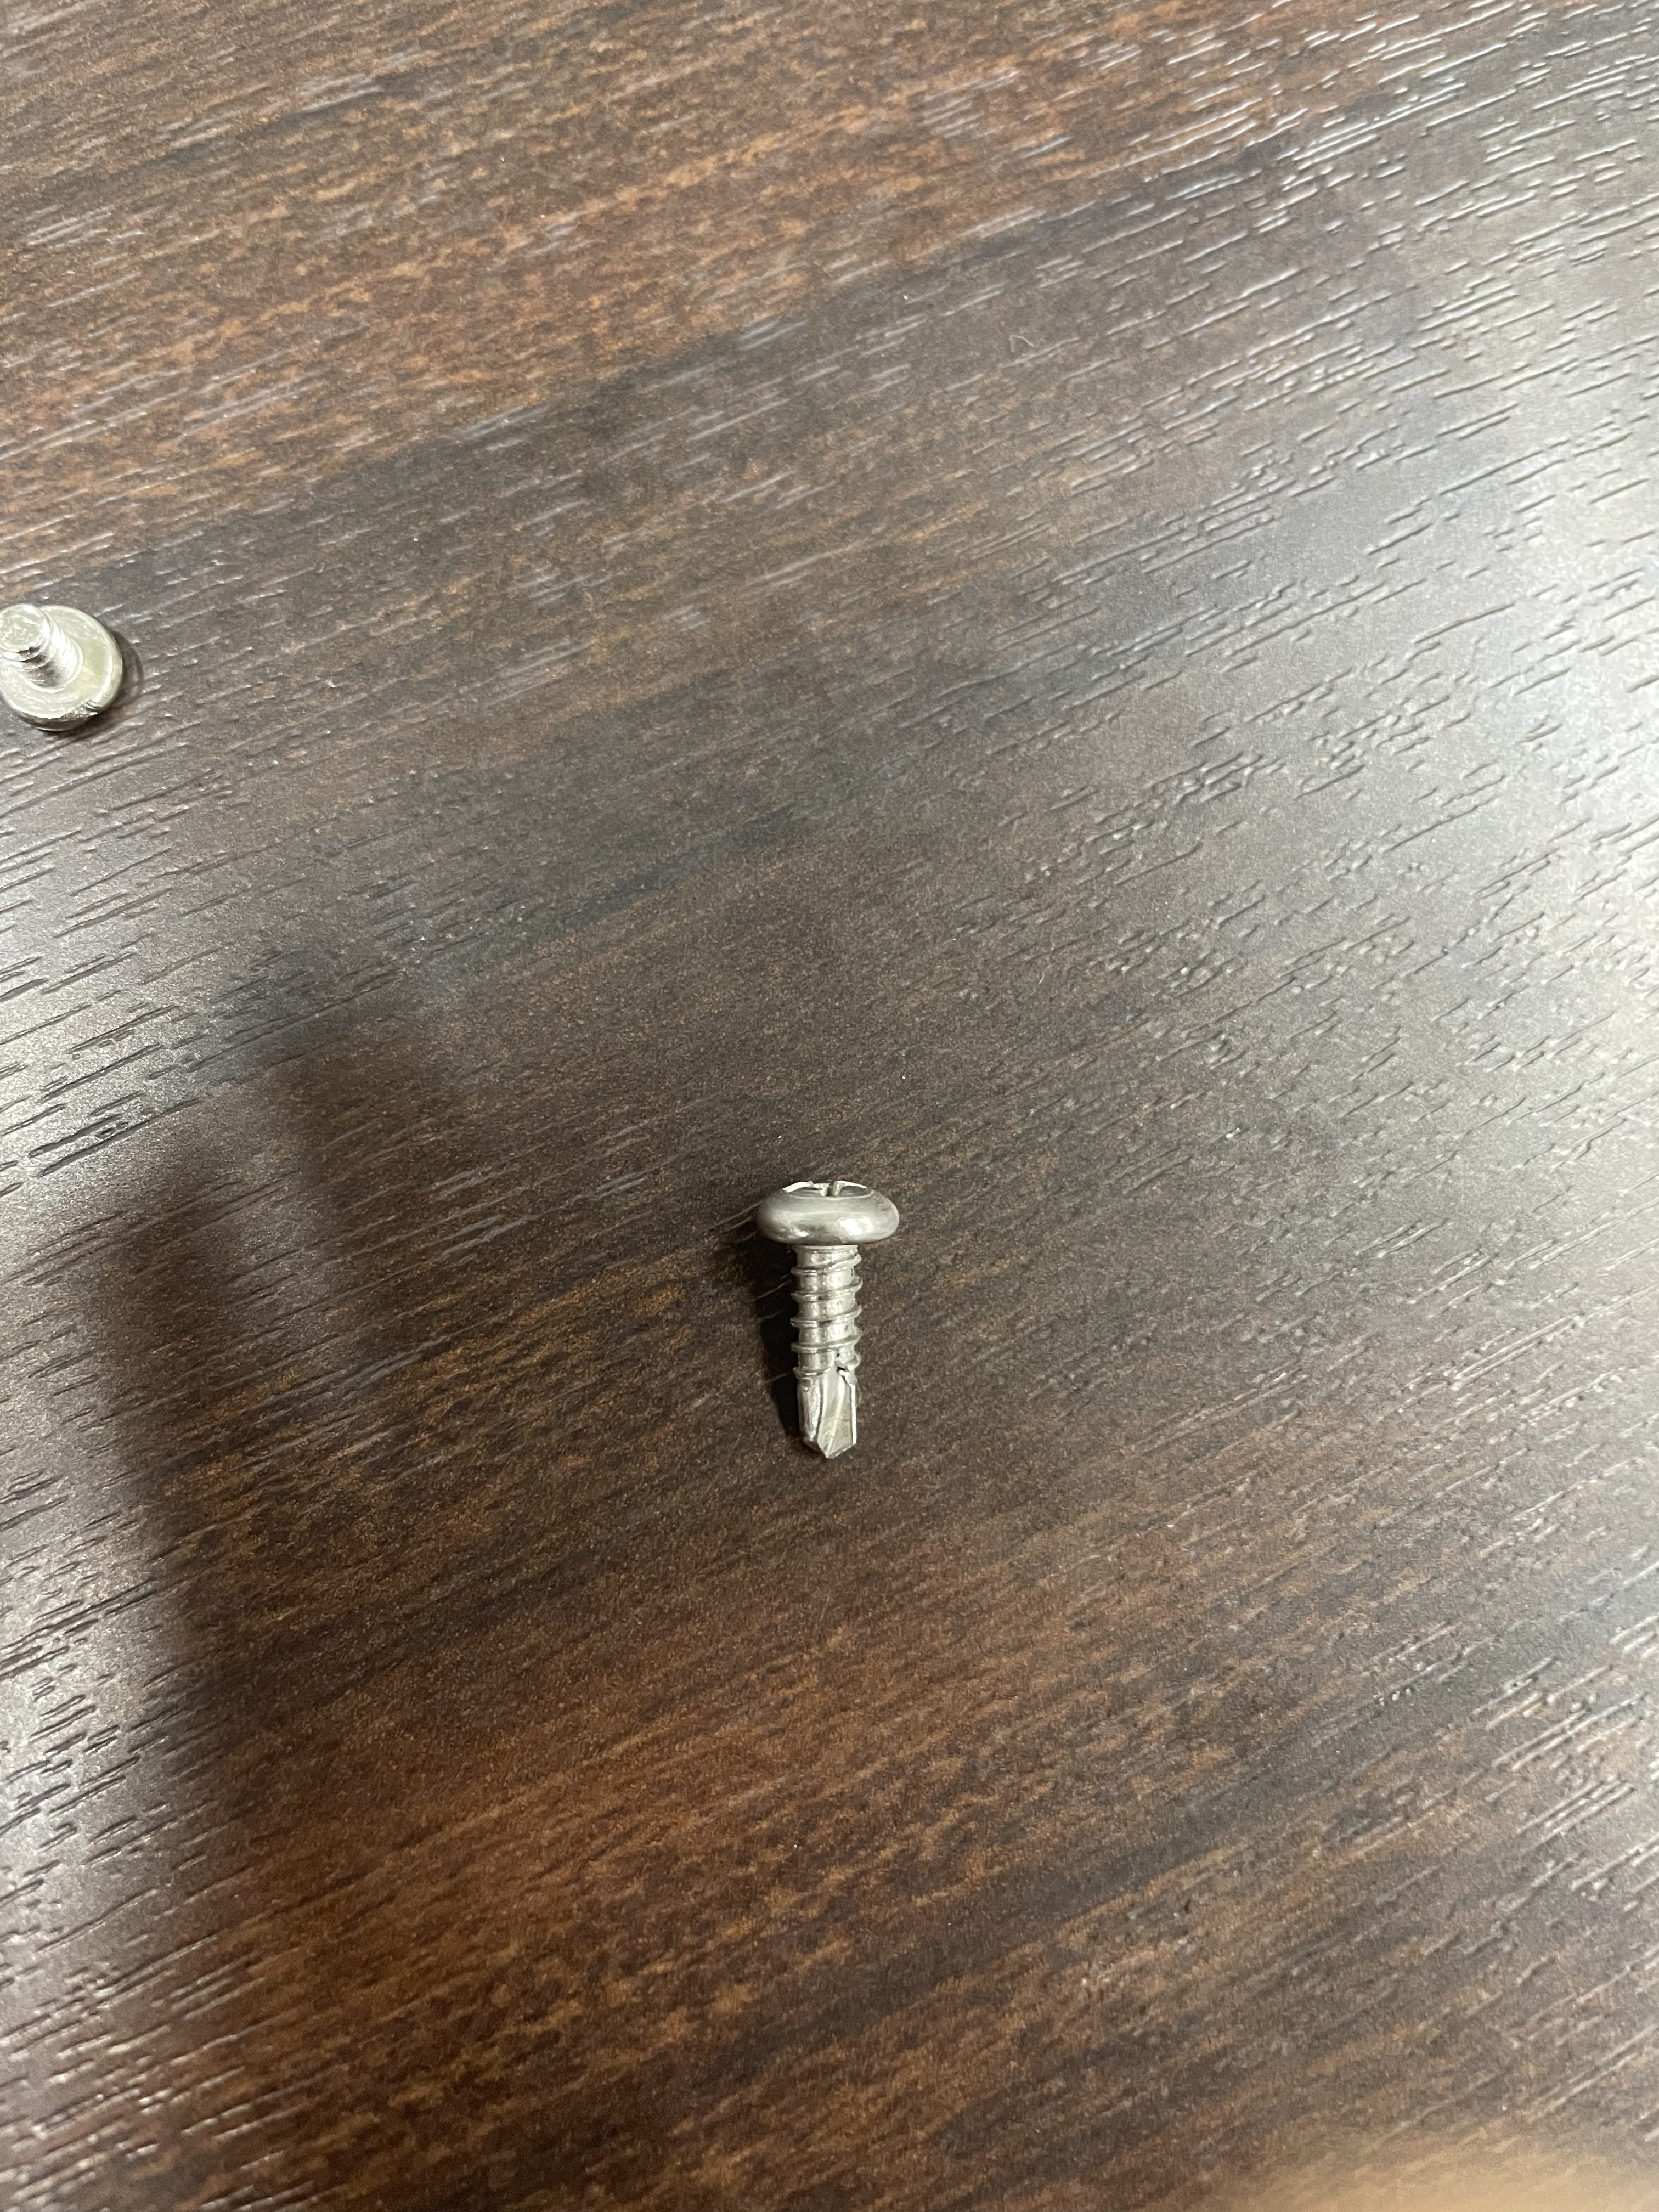screw3: (753, 1175, 895, 1459)
